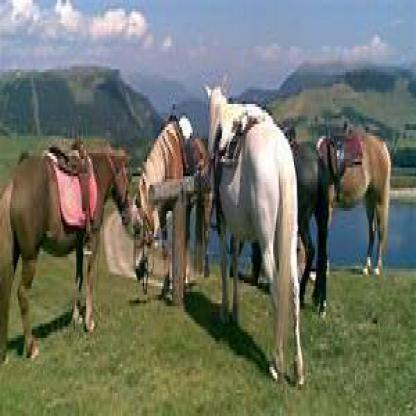horse: (205, 69, 309, 393), (0, 141, 132, 370), (132, 110, 212, 292), (317, 124, 394, 274)
